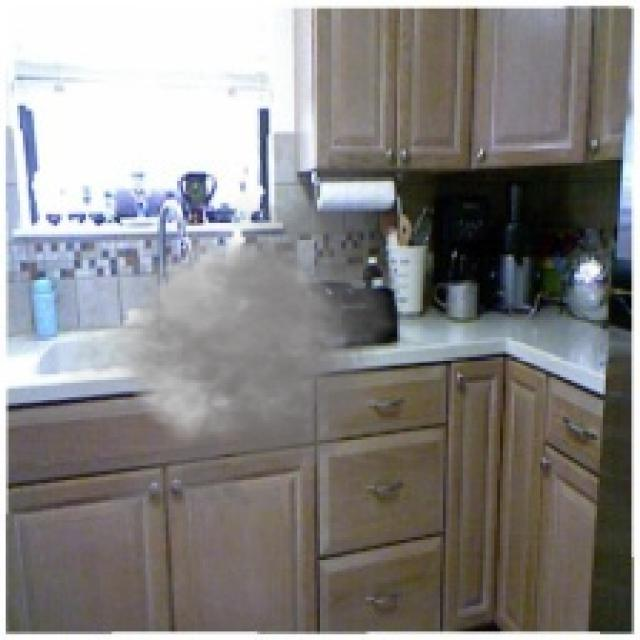Smoke: (49, 186, 418, 534)
